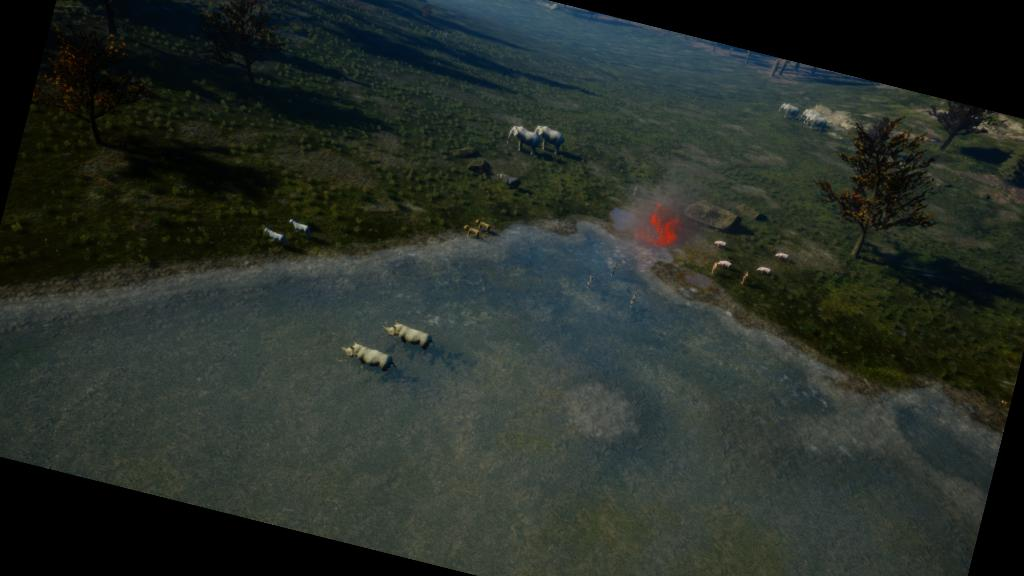Fire: (636, 202, 686, 254)
elephant: (501, 121, 547, 159), (529, 120, 570, 156), (774, 100, 802, 121), (802, 114, 830, 133), (800, 105, 824, 125)
hippopotamus: (492, 170, 524, 192)
human: (624, 292, 638, 311), (740, 270, 754, 288), (709, 260, 720, 276), (584, 274, 596, 288), (609, 260, 619, 276)
pig: (714, 256, 734, 270), (774, 250, 790, 264), (756, 264, 771, 277), (712, 240, 728, 250)
rhinoceros: (334, 336, 402, 378), (376, 315, 436, 352)
zebra: (258, 224, 292, 250), (284, 214, 316, 239)
